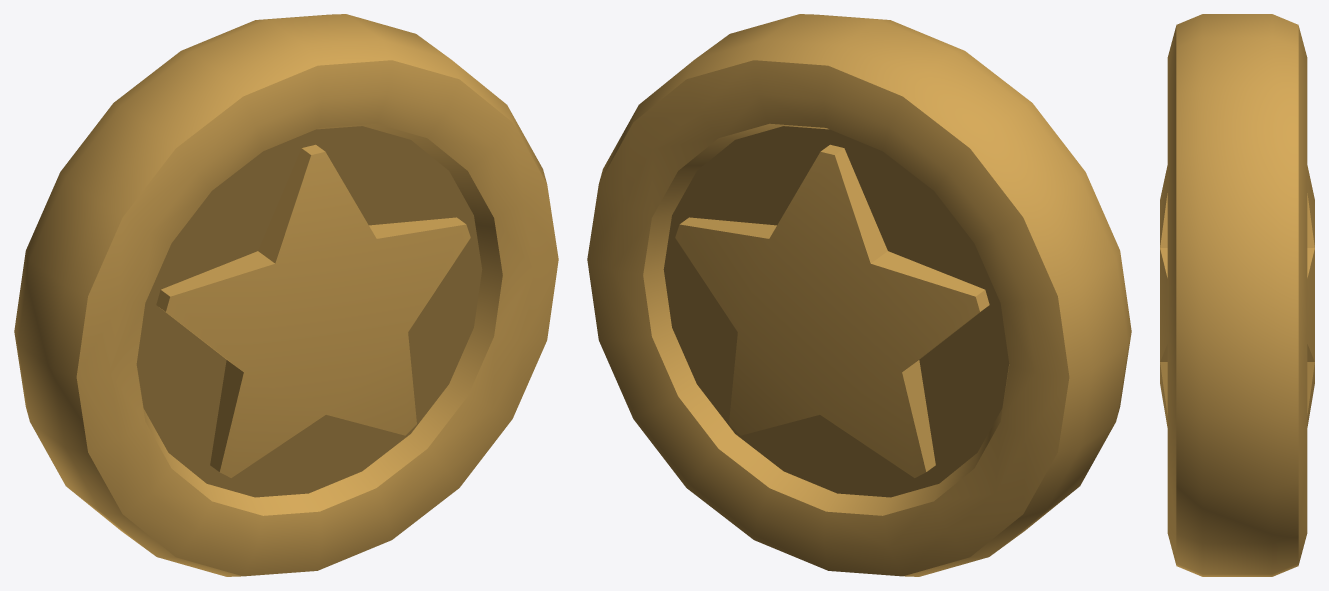
The model's file is coin.glb.
The picture shows the model from 3 angles, left to right: view 1: azimuth 30°, elevation 25°; view 2: azimuth 150°, elevation 25°; view 3: azimuth 270°, elevation 25°; orthographic projection. The views are drawn at different scales.
Visible parts, largest first — view 1: Coin; view 2: Coin; view 3: Coin.
Part boxes in pixels (x1=…): Coin: x1=14, y1=14, x2=558, y2=576; Coin: x1=587, y1=14, x2=1131, y2=576; Coin: x1=1160, y1=14, x2=1314, y2=576.
Bounding box in the file's own units: 1.92 × 1.92 × 0.5234.
